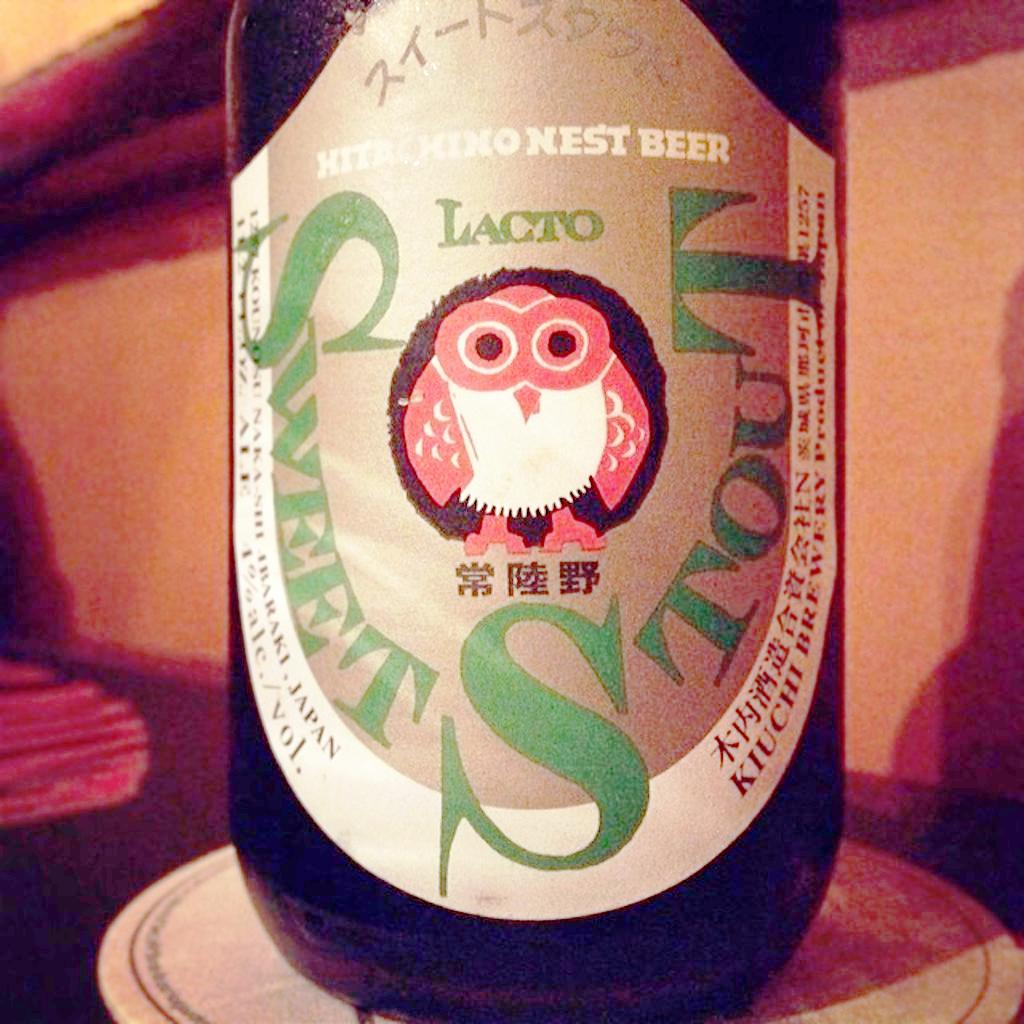Owl: (403, 290, 651, 556)
